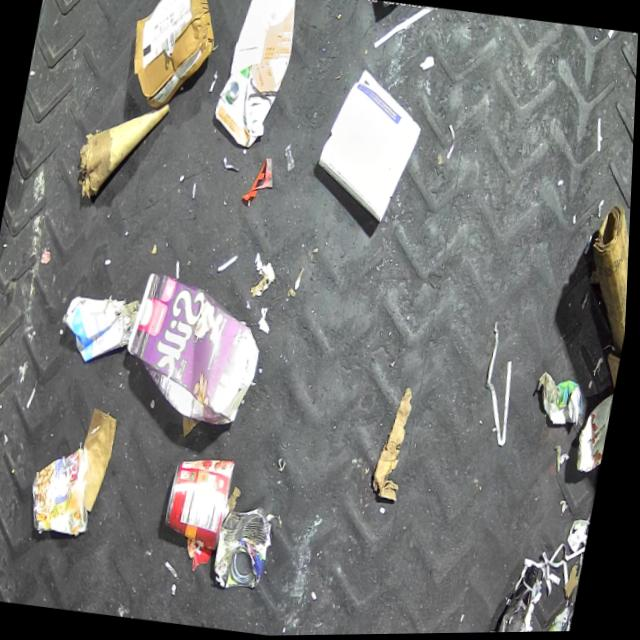can: (163, 450, 241, 551), (27, 440, 107, 538), (213, 500, 283, 595), (577, 389, 618, 481)
non_white_jug: (117, 269, 273, 433), (209, 0, 301, 150)
